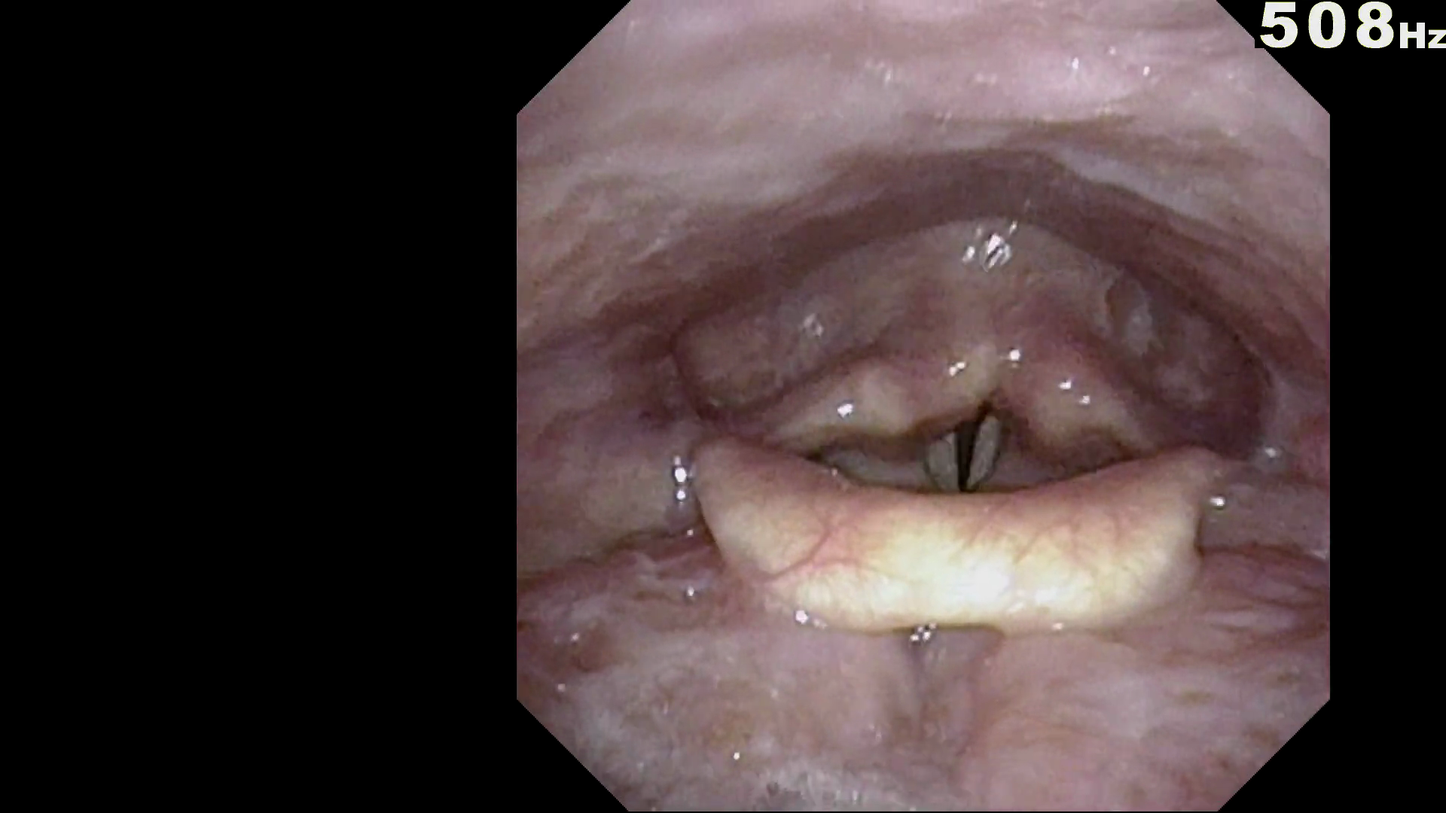epiglottis: (675, 390, 1248, 643)
trachea: (890, 344, 1057, 519)
